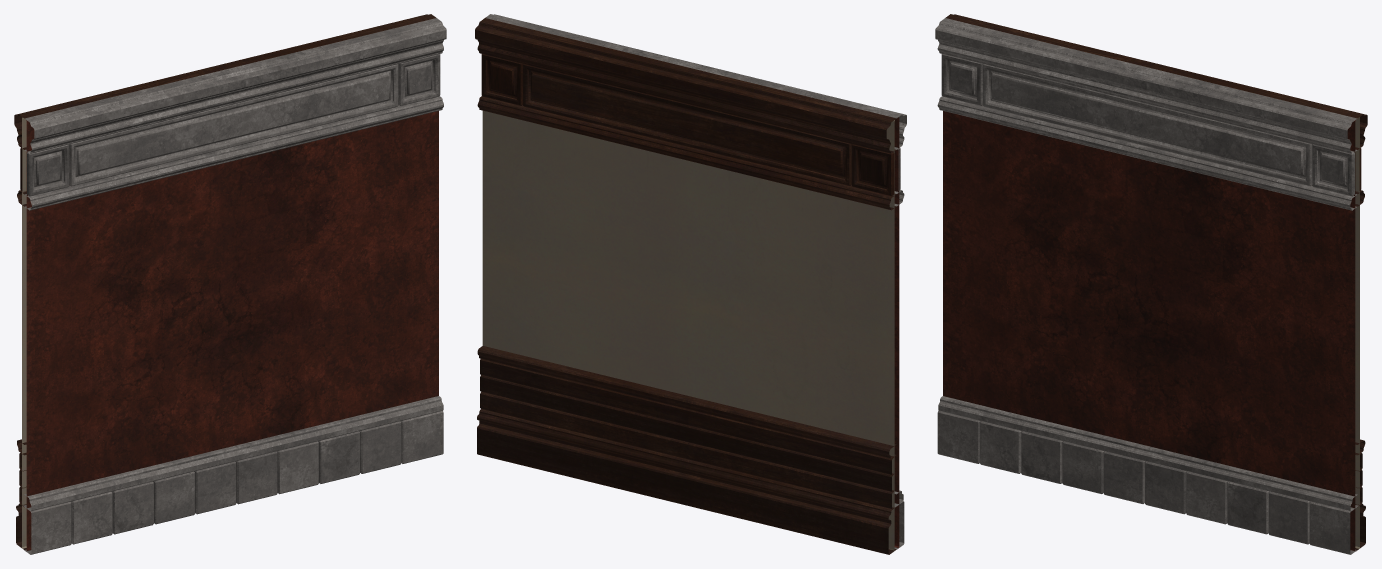
File: SK6 WALL 2.fbx
3 renders of one model, left to right at view 1: azimuth 30°, elevation 25°; view 2: azimuth 150°, elevation 25°; view 3: azimuth 330°, elevation 25°, orthographic.
Parts seen in each view (by area): view 1: SK6 WALL 2; view 2: SK6 WALL 2; view 3: SK6 WALL 2.
Part boxes in pixels (box(x1,y1,x2,y2)): SK6 WALL 2: box(14, 14, 446, 554); SK6 WALL 2: box(475, 14, 906, 554); SK6 WALL 2: box(935, 14, 1367, 554).
Bounding box in the file's own units: 400 × 400 × 33.96.
